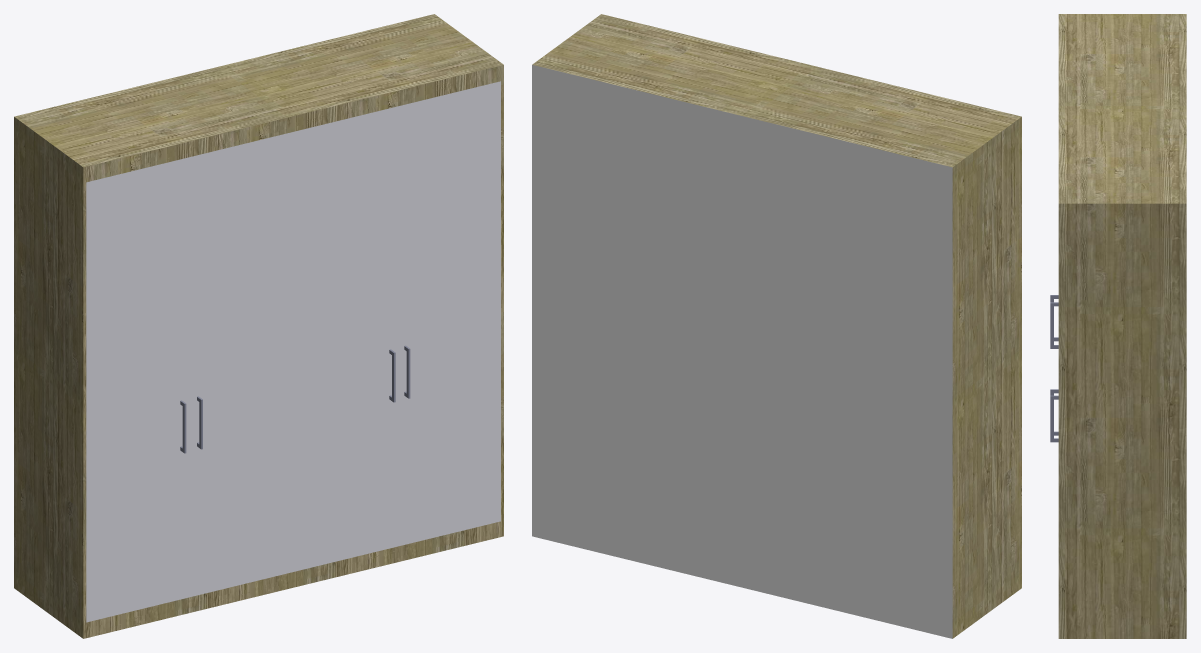
File: Skav.glb
3 views of the same model, side by side, from view 1: azimuth 30°, elevation 25°; view 2: azimuth 150°, elevation 25°; view 3: azimuth 270°, elevation 25° (orthographic). The views are drawn at different scales.
Visible parts, largest first — view 1: group_0.002, group_0; view 2: group_0.001, group_0; view 3: group_0, group_0.004, group_0.003.
Part boxes in pixels (box(x1,y1,x2,y2)): group_0.002: box(86, 81, 500, 622); group_0: box(14, 14, 503, 638); group_0.001: box(532, 65, 952, 638); group_0: box(532, 14, 1021, 638); group_0: box(1058, 14, 1186, 638); group_0.004: box(1050, 395, 1058, 442); group_0.003: box(1050, 302, 1058, 348).
Size of the model in its own units: 2.8 by 3 by 0.8525.
4 materials, 1 textured.
